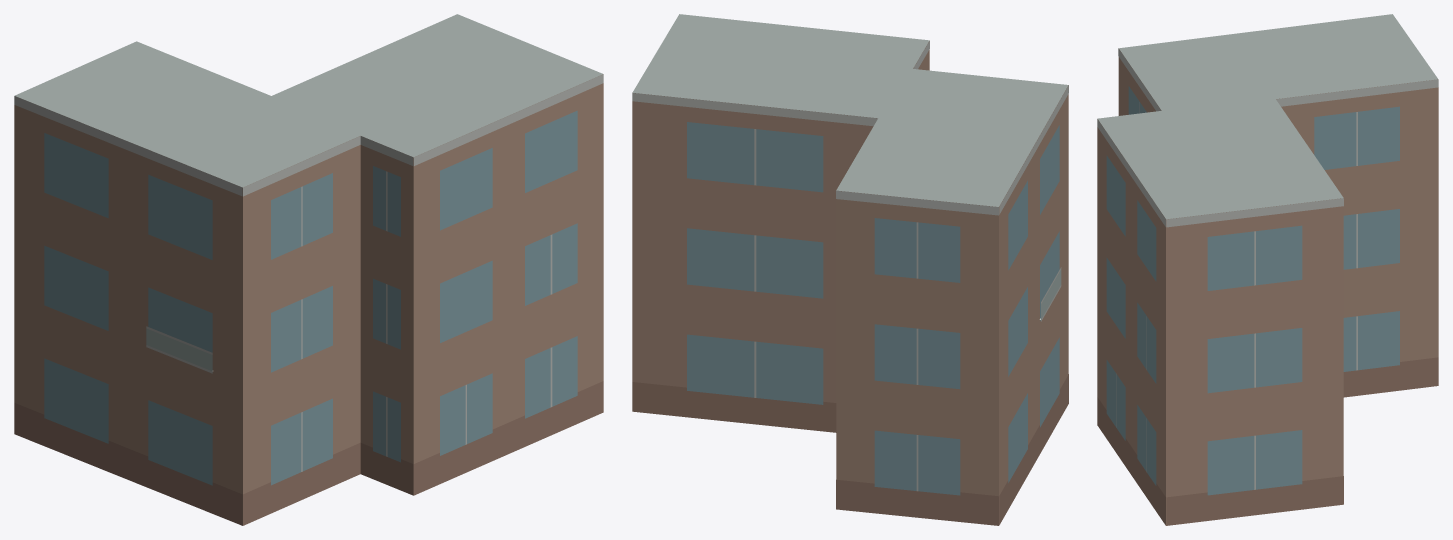
File: survey-upis-32617883.glb
The picture shows the model from 3 angles, left to right: view 1: azimuth 30°, elevation 25°; view 2: azimuth 150°, elevation 25°; view 3: azimuth 270°, elevation 25°; orthographic projection. The views are drawn at different scales.
Parts seen in each view (by area): view 1: survey-upis-32617883.tmp; view 2: survey-upis-32617883.tmp; view 3: survey-upis-32617883.tmp.
Part boxes in pixels (x1,y1,x2,y2): survey-upis-32617883.tmp: (14,14,603,525); survey-upis-32617883.tmp: (632,14,1068,525); survey-upis-32617883.tmp: (1097,14,1438,525).
Bounding box in the file's own units: 13.15 × 9.15 × 9.24.
